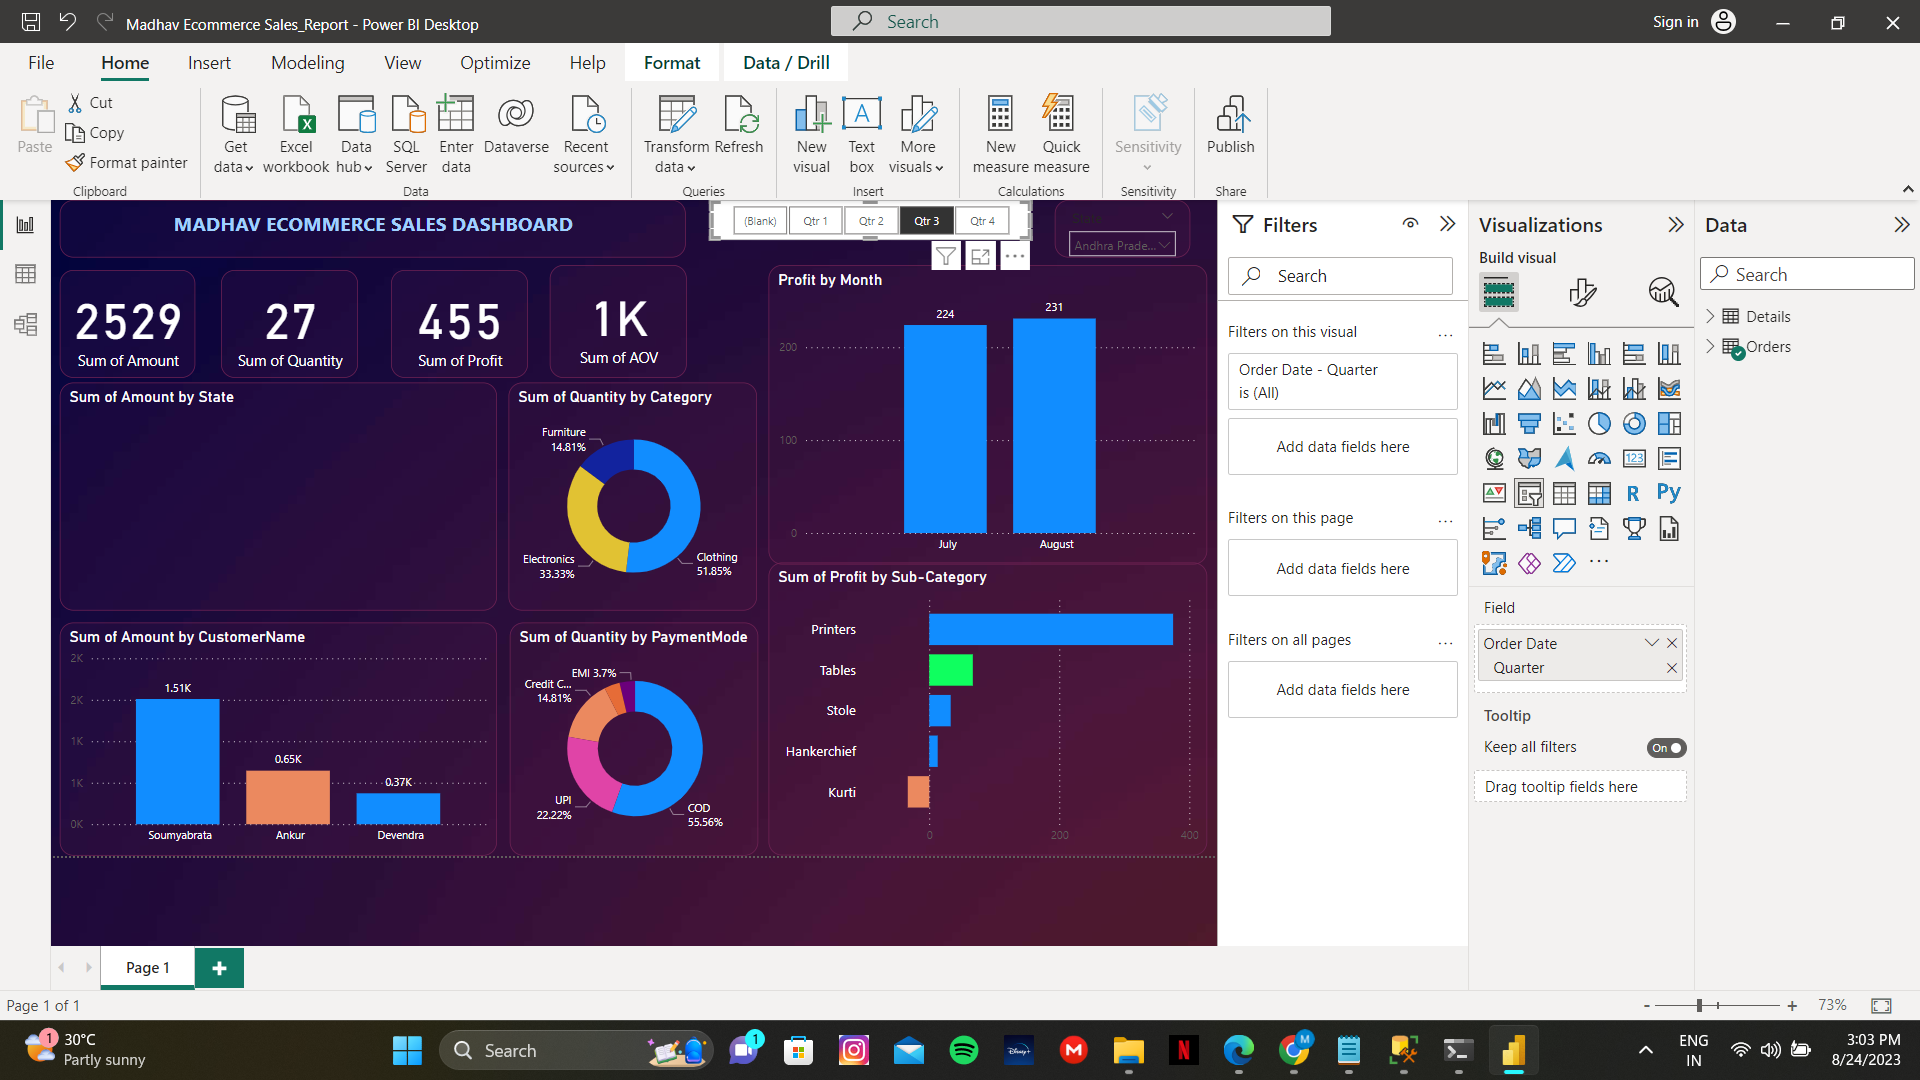

This screenshot's page, from the dashboard's own definition file:
{"tool":"powerbi","page":{"name":"Page 1","canvas":[1280,720],"ordinal":0},"visuals":[{"type":"textbox","box":[10,0,687.1,62.9],"z":0},{"type":"columnChart","title":"Profit by Month","fields":{"Y":["Sum(Details.Profit)"],"Category":["Orders.Order Date.Variation.Date Hierarchy.Month"]},"box":[787.1,71.4,481.4,328.6],"z":1000},{"type":"barChart","fields":{"Category":["Details.Sub-Category"],"Y":["Sum(Details.Profit)"]},"box":[787.1,398.6,481.4,321.4],"z":2000},{"type":"donutChart","fields":{"Category":["Details.Category"],"Y":["Sum(Details.Quantity)"]},"box":[502.9,200,272.9,250],"z":3000},{"type":"donutChart","fields":{"Y":["Sum(Details.Quantity)"],"Category":["Details.PaymentMode"]},"box":[504.3,464.3,272.9,255.7],"z":4000},{"type":"card","fields":{"Values":["Sum(Details.Amount)"]},"box":[10,77.1,148.6,118.6],"z":5000},{"type":"card","fields":{"Values":["Sum(Details.Quantity)"]},"box":[187.1,77.1,150,118.6],"z":6000},{"type":"card","fields":{"Values":["Sum(Details.Profit)"]},"box":[372.9,77.1,150,118.6],"z":7000},{"type":"card","fields":{"Values":["Sum(Details.AOV)"]},"box":[547.1,71.4,150,124.3],"z":8000},{"type":"barChart","fields":{"Category":["Orders.State"],"Y":["Sum(Details.Amount)"]},"box":[10,200,480,250],"z":9000},{"type":"columnChart","fields":{"Category":["Orders.CustomerName"],"Y":["Sum(Details.Amount)"]},"box":[10,464.3,480,255.7],"z":10000},{"type":"slicer","fields":{"Values":["Orders.Order Date.Variation.Date Hierarchy.Quarter"]},"box":[722.9,0,352.9,44.3],"z":11000},{"type":"slicer","fields":{"Values":["Orders.State"]},"box":[1101.4,0,148.6,62.9],"z":11001}]}

Visuals, with their boxes on the page's 1280x720 design canvas (x1, y1, x2, y2). These are canvas units, not pixel positions in the 1920x1080 screenshot, which may show the page scaled, cropped or inside an application window:
textbox: [10,0,697,63]
"Profit by Month" columnChart: [787,71,1268,400]
barChart - Details.Sub-Category x Sum(Details.Profit): [787,399,1268,720]
donutChart - Details.Category x Sum(Details.Quantity): [503,200,776,450]
donutChart - Sum(Details.Quantity) x Details.PaymentMode: [504,464,777,720]
card - Sum(Details.Amount): [10,77,159,196]
card - Sum(Details.Quantity): [187,77,337,196]
card - Sum(Details.Profit): [373,77,523,196]
card - Sum(Details.AOV): [547,71,697,196]
barChart - Orders.State x Sum(Details.Amount): [10,200,490,450]
columnChart - Orders.CustomerName x Sum(Details.Amount): [10,464,490,720]
slicer - Orders.Order Date.Variation.Date Hierarchy.Quarter: [723,0,1076,44]
slicer - Orders.State: [1101,0,1250,63]
